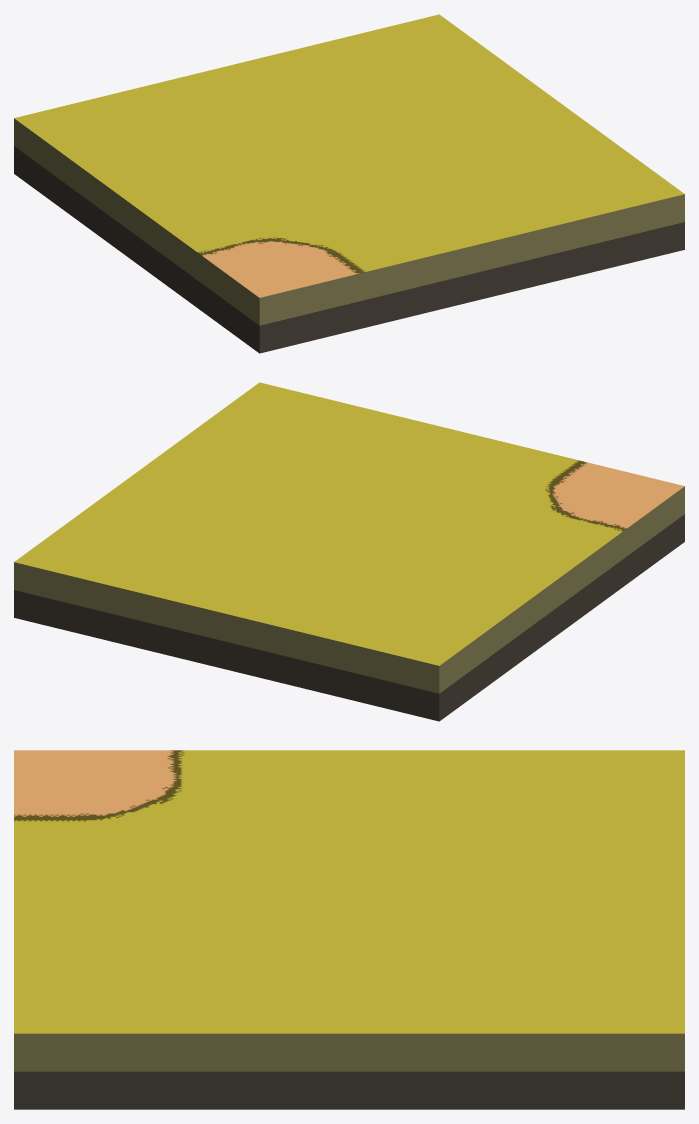
File: tile2_2 sand top Corner.fbx
3 renders of one model, top to bottom at view 1: azimuth 30°, elevation 25°; view 2: azimuth 150°, elevation 25°; view 3: azimuth 270°, elevation 25°, orthographic. The views are drawn at different scales.
Parts seen in each view (by area): view 1: Cube.001; view 2: Cube.001; view 3: Cube.001.
Boxes of the visible parts, <box> form: Cube.001: <box>14,14,684,353</box>; Cube.001: <box>14,382,684,721</box>; Cube.001: <box>14,750,684,1109</box>.
Bounding box in the file's own units: 400 × 50 × 400.
Materials: 1 (1 with a texture image).
